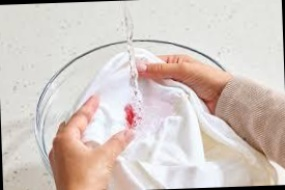blood: (124, 104, 142, 127)
